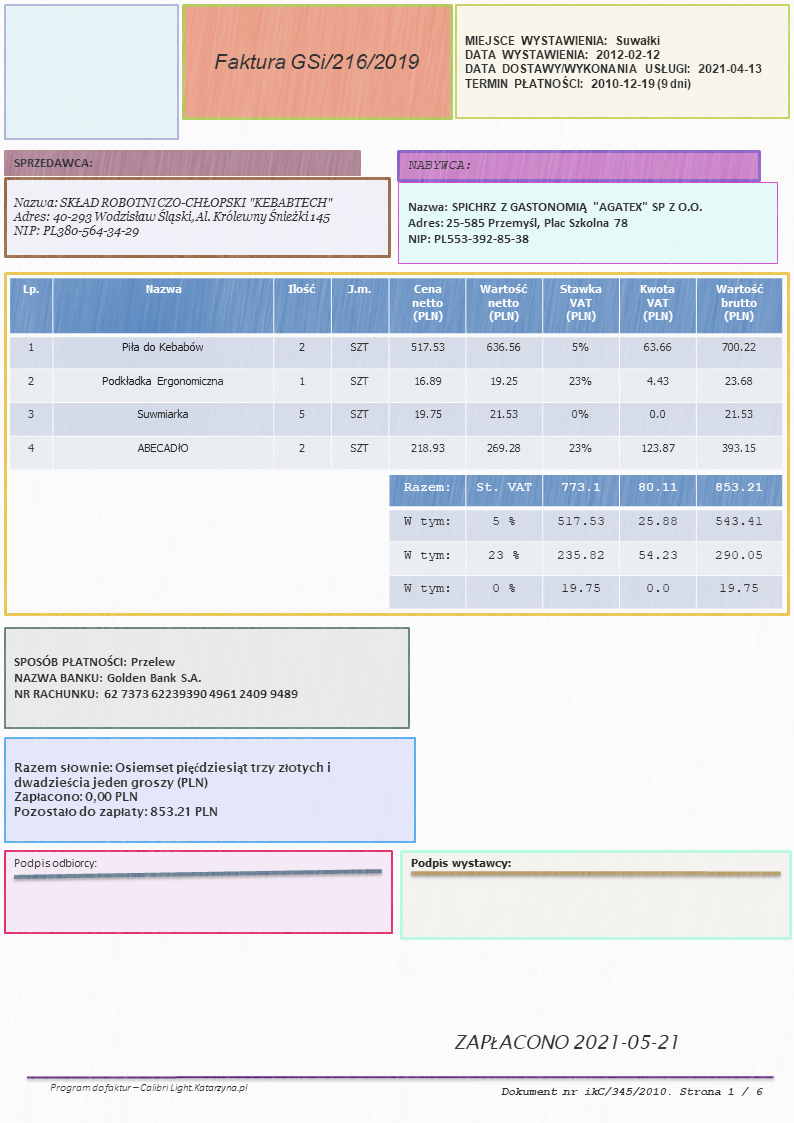Table: (8, 276, 783, 471), (388, 474, 783, 610)
TextBox: (12, 759, 334, 820), (463, 31, 763, 91), (11, 195, 337, 240), (12, 653, 299, 701), (406, 200, 705, 245), (451, 1030, 680, 1055), (211, 50, 420, 72), (498, 1084, 765, 1099), (47, 1081, 251, 1096), (408, 855, 513, 872), (11, 855, 98, 872), (11, 155, 93, 170), (407, 158, 471, 172)
